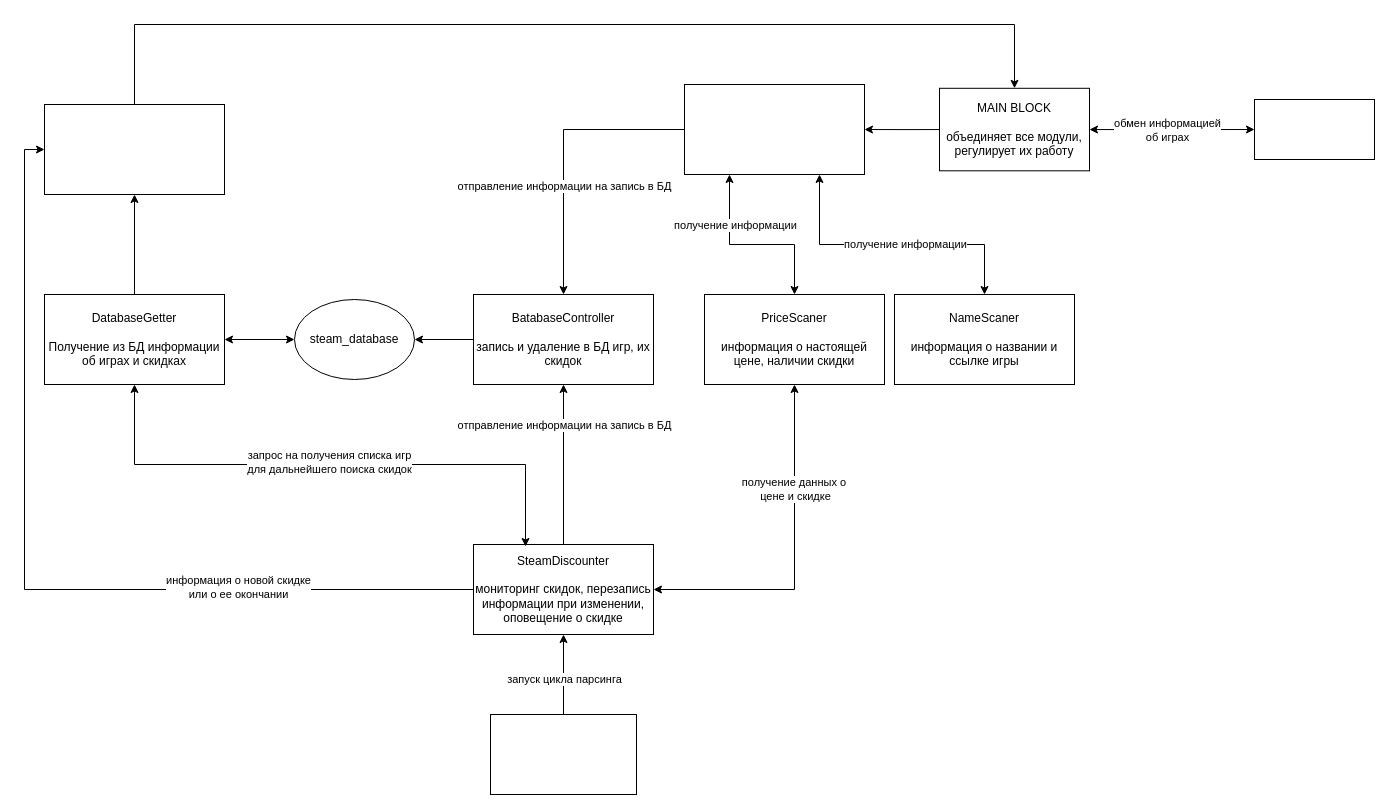
Some shapes in this 1392 by 812 pixel diagram are drawn without their labels. Each missing label, with the centre of its shape:
BOT: (x=1314, y=129)
DataFormatter обработка инфы по играм перед выводом в бот: (x=134, y=149)
SteamParser получение базовой информации об игре (имя, цена, ссылка): (x=774, y=129)
Timer отсчет заданного количества времени: (x=563, y=754)
